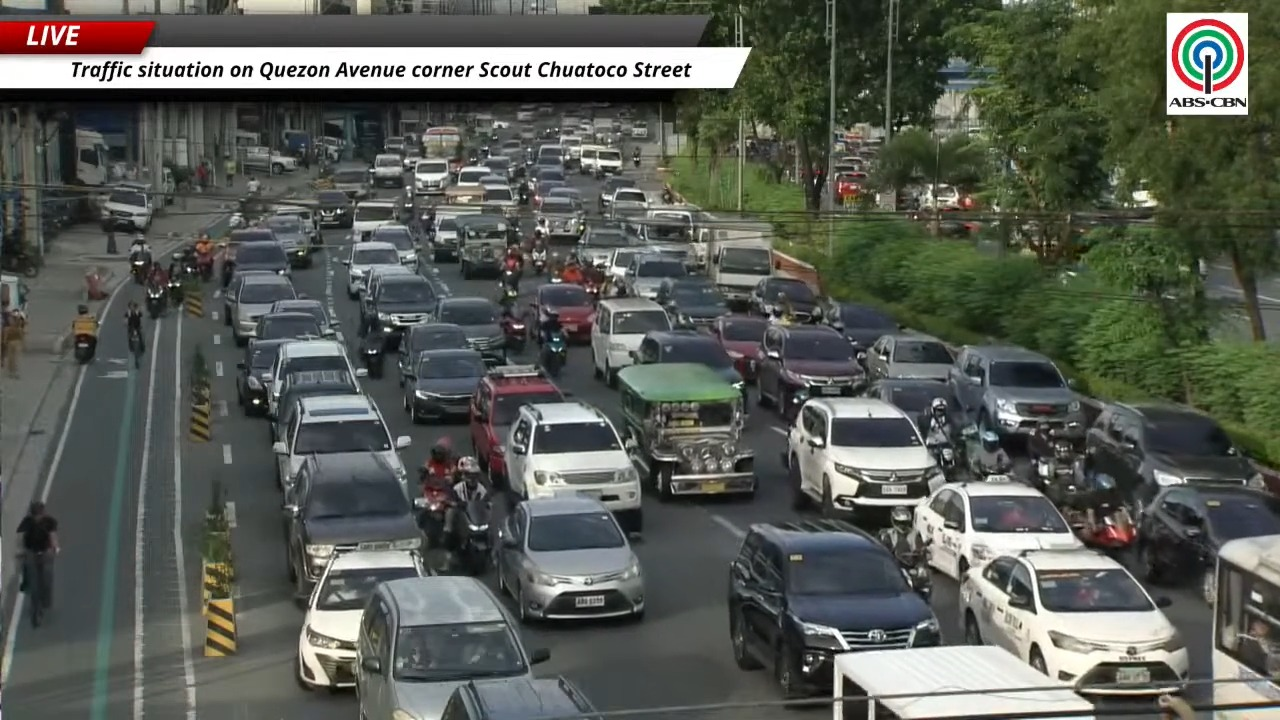bus: (1206, 535, 1279, 719), (422, 126, 464, 170)
car: (727, 519, 941, 698), (960, 549, 1188, 694), (356, 576, 549, 719), (284, 452, 423, 601), (617, 363, 756, 499), (786, 397, 943, 516), (495, 494, 644, 619), (1085, 403, 1264, 506), (296, 550, 430, 687), (1136, 485, 1279, 605), (504, 400, 640, 526), (914, 483, 1082, 580), (272, 394, 410, 488), (948, 345, 1085, 437), (469, 365, 563, 484), (756, 325, 864, 416), (268, 339, 366, 417), (590, 297, 671, 386), (633, 328, 744, 390), (442, 676, 595, 719), (270, 370, 361, 442), (361, 266, 438, 347), (403, 350, 486, 423), (863, 379, 962, 431), (707, 236, 774, 311), (431, 297, 505, 363), (231, 275, 295, 346), (397, 323, 468, 386), (864, 333, 953, 382), (710, 314, 769, 383), (527, 283, 594, 342), (456, 211, 511, 279), (655, 276, 728, 327), (237, 340, 286, 415), (342, 241, 399, 299), (623, 252, 688, 300), (751, 275, 818, 321), (573, 221, 636, 268), (222, 271, 275, 326), (430, 205, 480, 262), (269, 298, 339, 336), (263, 214, 311, 267), (101, 186, 154, 232), (630, 211, 691, 250), (233, 234, 291, 275), (273, 204, 321, 251), (369, 225, 417, 268), (253, 310, 323, 339), (351, 199, 399, 240), (539, 196, 584, 239), (601, 244, 647, 282), (239, 146, 298, 174), (329, 162, 371, 201), (598, 175, 636, 212), (413, 158, 451, 195), (482, 181, 519, 217), (317, 190, 352, 228), (532, 169, 566, 208), (608, 188, 649, 220), (372, 152, 404, 187), (533, 162, 567, 189), (453, 165, 490, 187), (480, 154, 512, 177), (544, 185, 582, 202), (402, 145, 421, 172), (384, 136, 405, 155), (519, 126, 536, 142)
motorcycle: (877, 529, 932, 600), (1028, 429, 1081, 489), (1075, 502, 1136, 553), (455, 498, 491, 575), (415, 483, 453, 548), (895, 548, 932, 600), (0, 245, 40, 277), (540, 330, 567, 377), (928, 442, 958, 480), (500, 313, 526, 353), (361, 340, 384, 378), (171, 248, 197, 276), (73, 333, 96, 364), (146, 286, 166, 319), (130, 253, 150, 284), (499, 279, 518, 310), (196, 251, 214, 282), (167, 276, 184, 307), (582, 280, 600, 302), (530, 251, 546, 275), (518, 183, 529, 206), (661, 190, 673, 204), (633, 155, 640, 168)
truck: (832, 645, 1096, 719), (707, 231, 773, 310), (75, 128, 109, 186)
